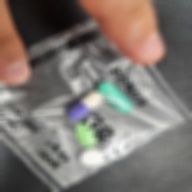러키펜정: (81, 148, 103, 167)
씨엠지세파클러캡슐: (67, 91, 105, 122)
에르도캡슐: (97, 82, 133, 114)
휴티렌정: (76, 122, 98, 147)
